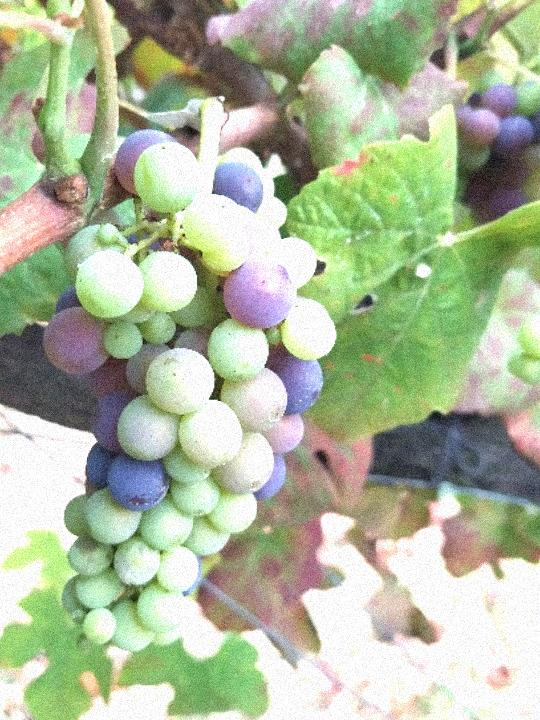grape: (39, 126, 340, 660)
